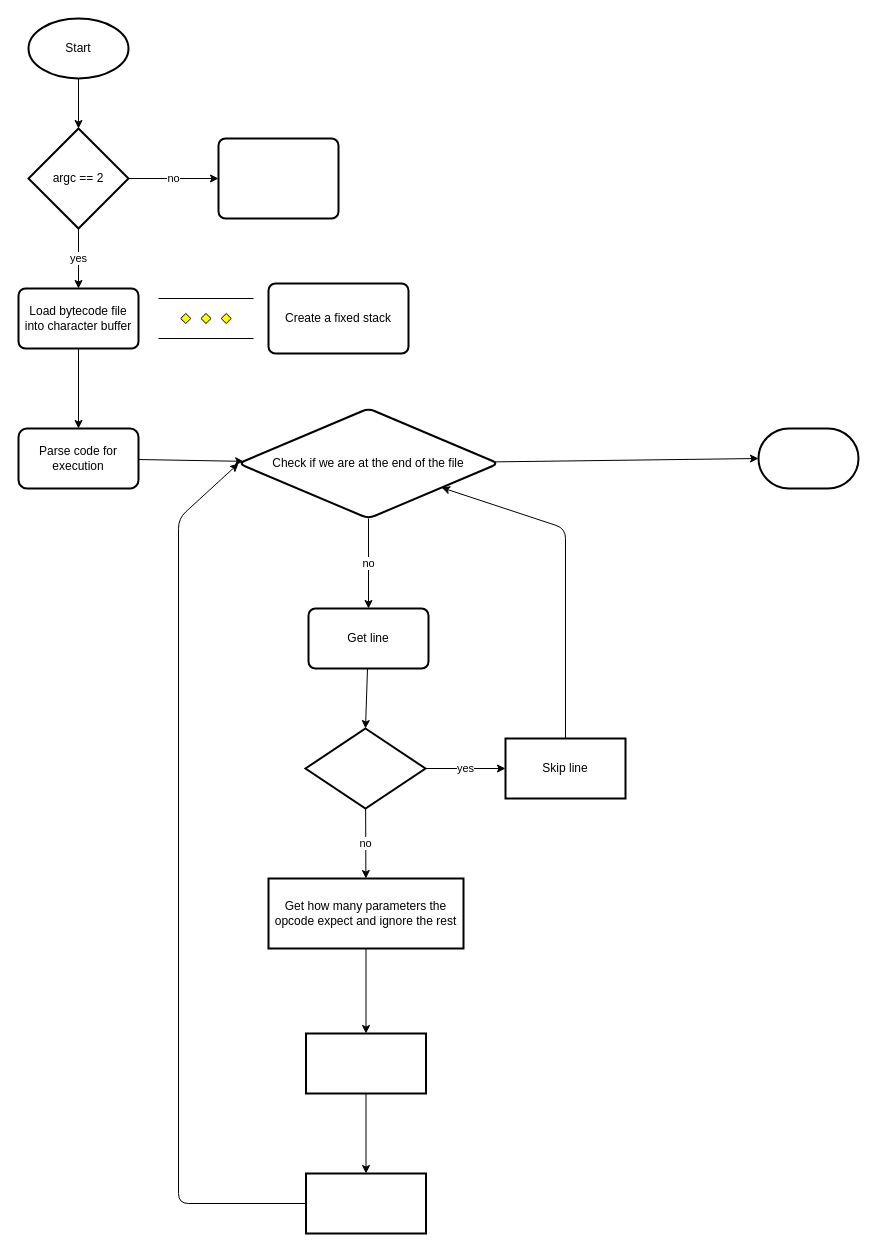
This 876x1251 diagram has some shape labels left out. The box of each missing label's shape, as (x1, y1, x2, y2) in pixels:
End: (757, 427, 859, 489)
Execute the function: (304, 1172, 426, 1234)
Get the opcode's function: (304, 1032, 426, 1094)
If line is empty: (304, 727, 426, 809)
Throw error, exit with EXIT_FAILURE: (217, 137, 339, 219)
